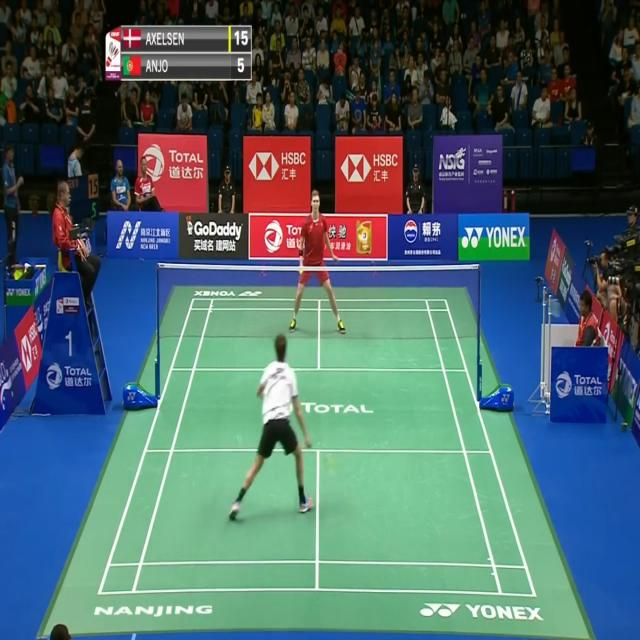Player1: (224, 328, 317, 528)
Player2: (283, 181, 352, 345)
